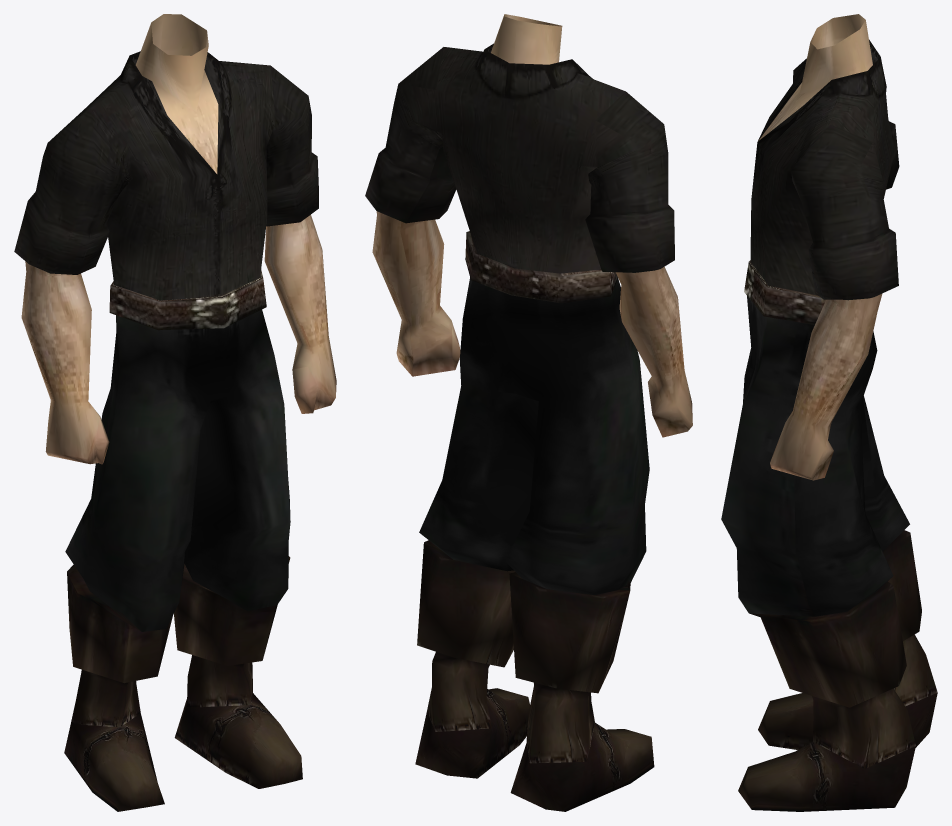
File: KOSZULA_CZARNA.glb
3 views of the same model, side by side, from view 1: azimuth 30°, elevation 25°; view 2: azimuth 150°, elevation 25°; view 3: azimuth 270°, elevation 25° (orthographic).
Parts seen in each view (by area): view 1: KOSZULA_CZARNA; view 2: KOSZULA_CZARNA; view 3: KOSZULA_CZARNA.
Part boxes in pixels (box(x1,y1,x2,y2)): KOSZULA_CZARNA: box(14, 14, 336, 811); KOSZULA_CZARNA: box(365, 14, 692, 811); KOSZULA_CZARNA: box(721, 14, 937, 811).
Bounding box in the file's own units: 0.6885 × 1.68 × 0.4402.
Materials: 2 (2 with a texture image).
